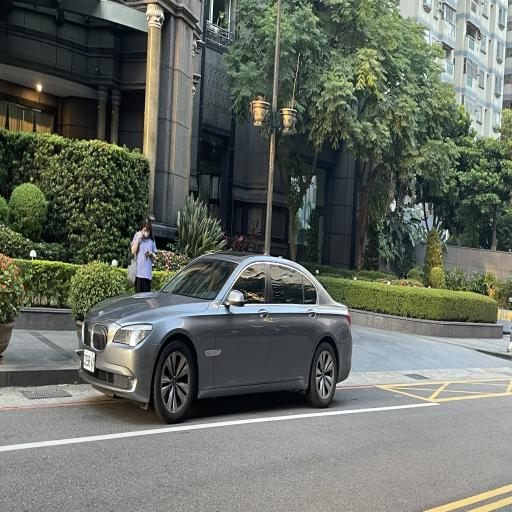MIU: (68, 341, 188, 429), (298, 346, 352, 412)
car: (69, 224, 359, 436)
redline: (0, 391, 181, 425), (329, 370, 376, 400)
